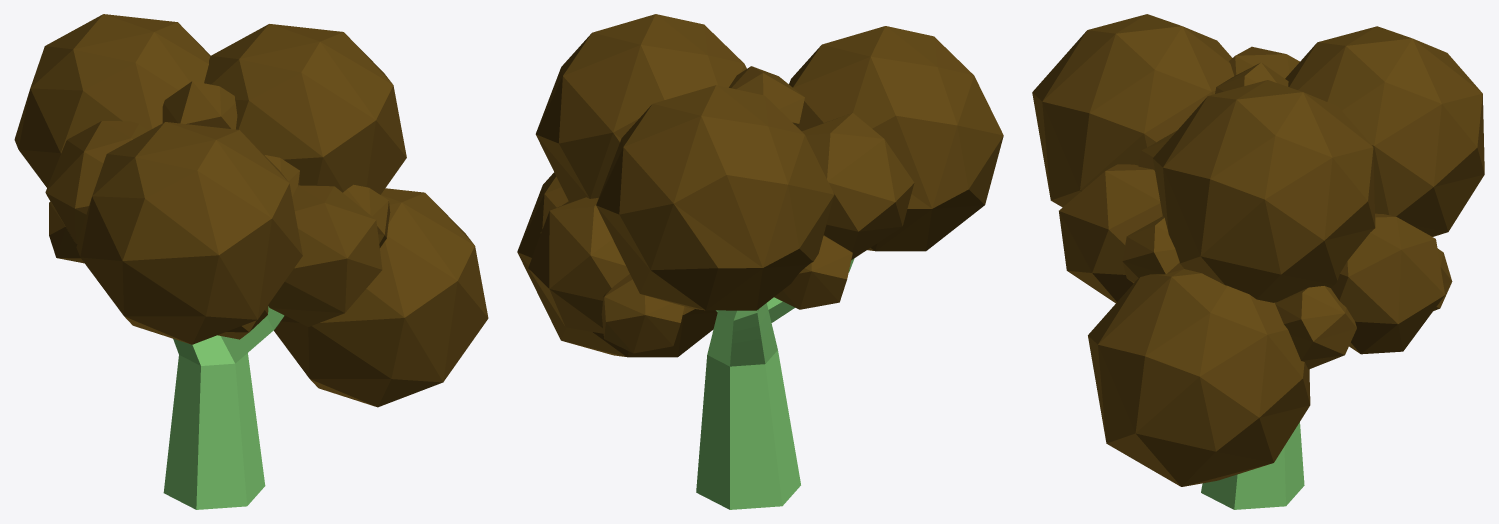
File: bubble1.fbx
3 renders of one model, left to right at view 1: azimuth 30°, elevation 25°; view 2: azimuth 150°, elevation 25°; view 3: azimuth 270°, elevation 25°, orthographic. The views are drawn at different scales.
Visible parts, largest first — view 1: bubble 1; view 2: bubble 1; view 3: bubble 1.
Part boxes in pixels (x1,y1,x2,y2): bubble 1: [14, 14, 488, 509]; bubble 1: [517, 14, 1003, 509]; bubble 1: [1032, 14, 1484, 509].
Size of the model in its own units: 737 by 754 by 706.
